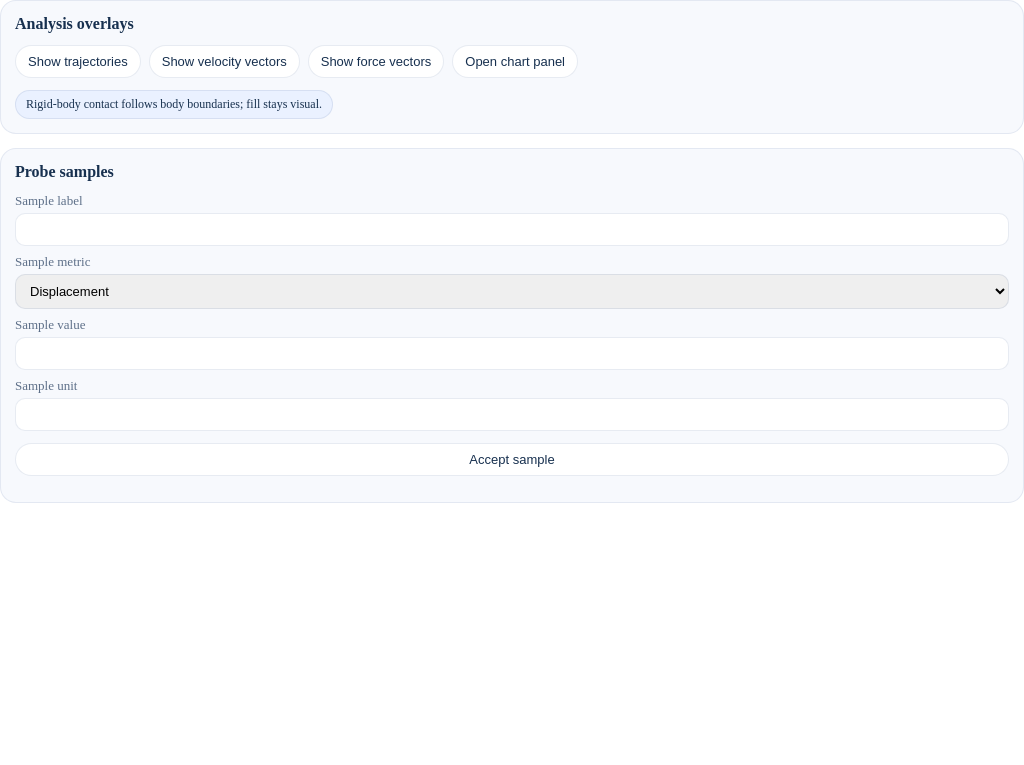
Test: AnalysisPanel › toggles trajectory, vector overlays, and chart visibility
Expected: the text "Rigid-body contact follows body boundaries; fill stays visual." is shown, top-left (15, 90), bottom-right (333, 119)
What coordinates should you click on to do the following:
click the button "Show trajectories"
I would click on:
 (78, 62)
Its box is top-left (15, 45), bottom-right (141, 78).
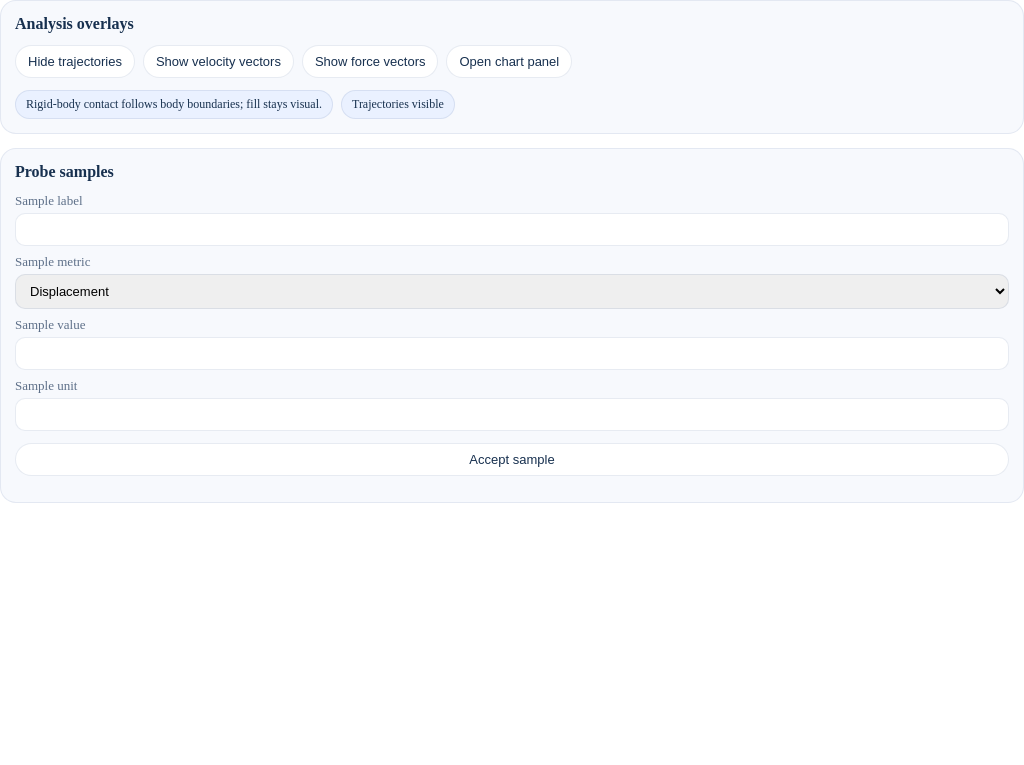
What coordinates should you click on to do the following:
click the button "Show velocity vectors"
I would click on:
 (218, 62)
Its box is top-left (143, 45), bottom-right (294, 78).
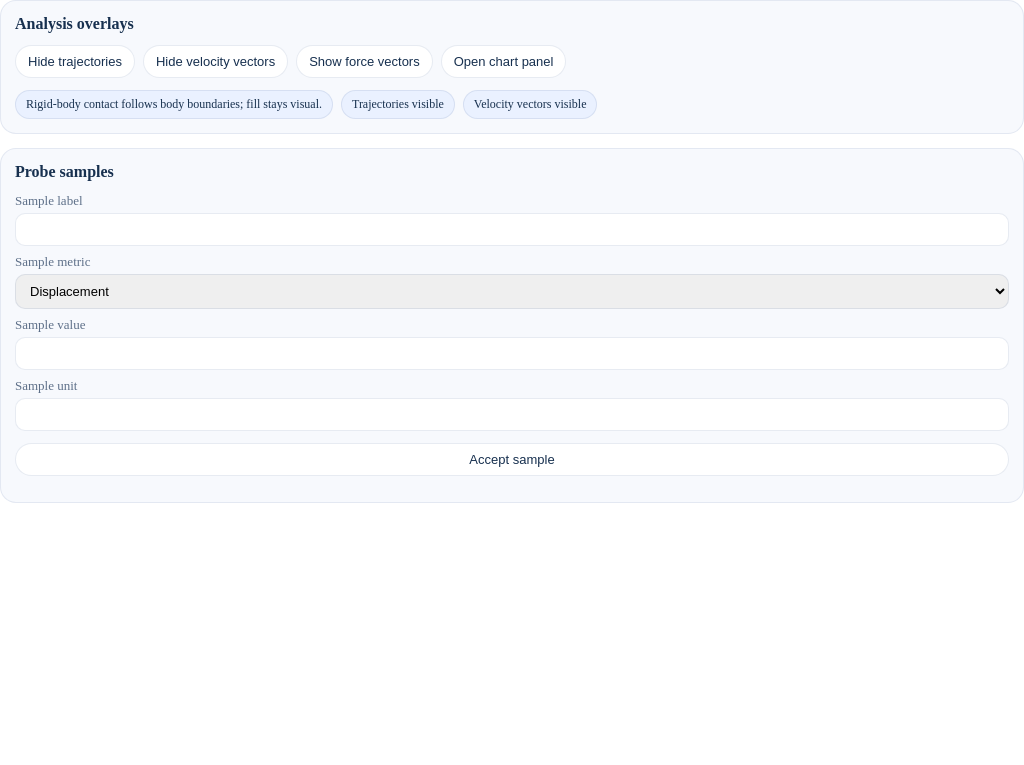
What coordinates should you click on to do the following:
click the button "Show force vectors"
I would click on:
 (364, 62)
Its box is top-left (296, 45), bottom-right (433, 78).
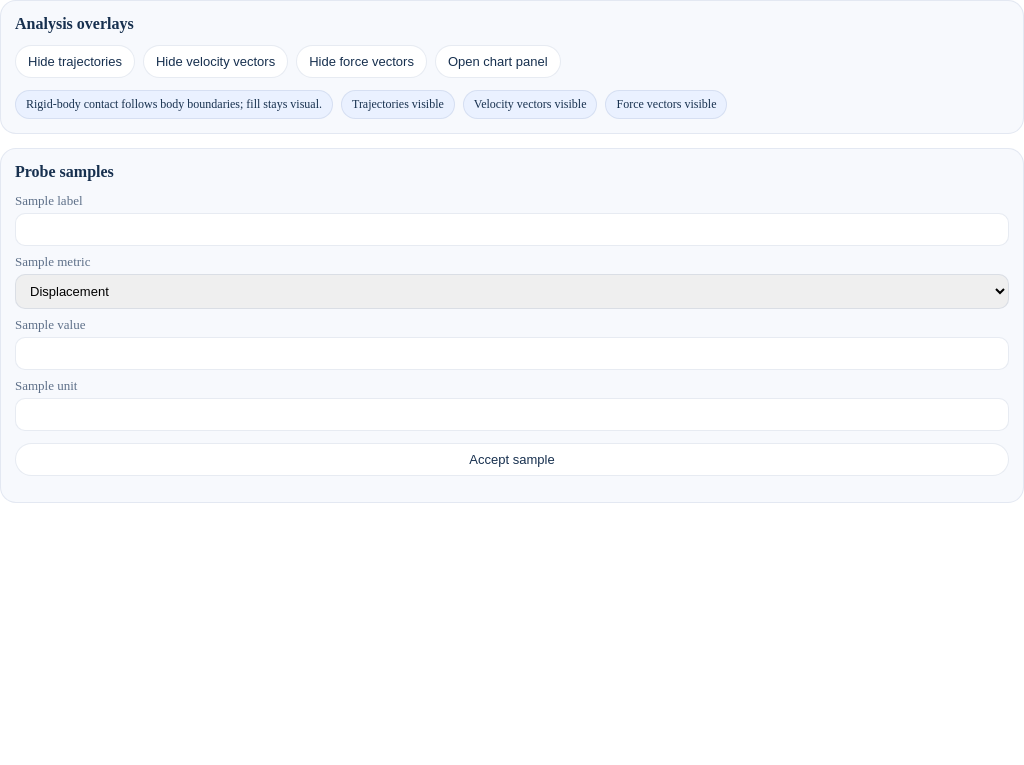
What coordinates should you click on to do the following:
click the button "Open chart panel"
I would click on:
 (498, 62)
Its box is top-left (435, 45), bottom-right (561, 78).
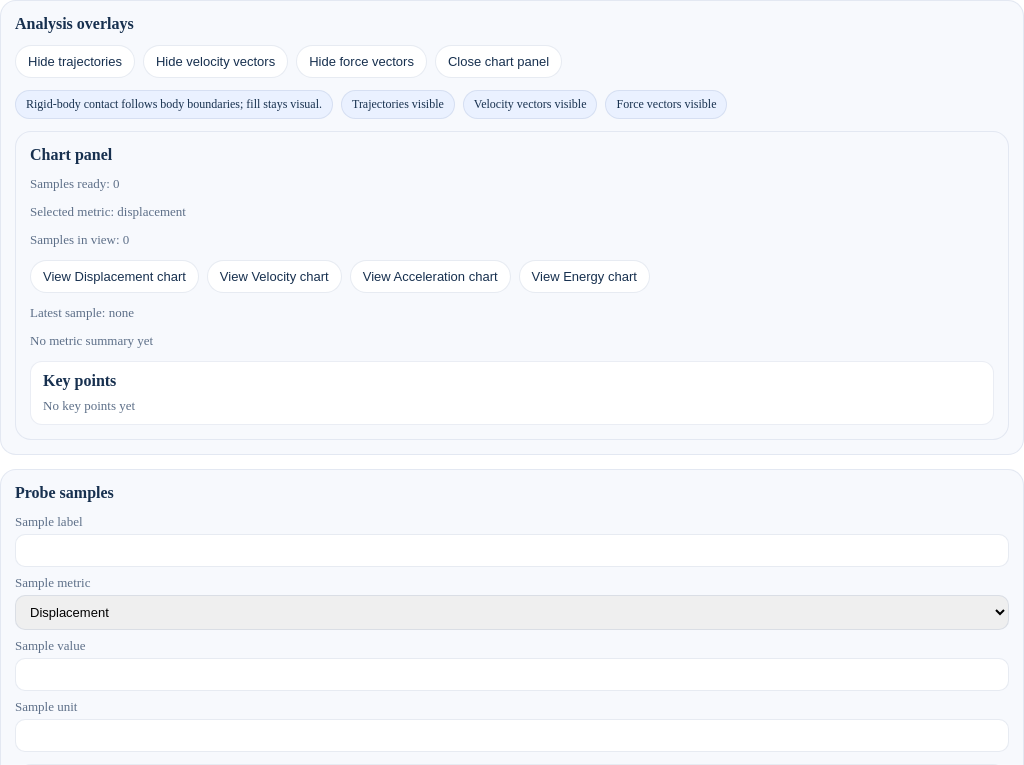
Result: the text "Trajectories visible" is shown at top-left (341, 90), bottom-right (455, 119)
Result: the text "Velocity vectors visible" is shown at top-left (463, 90), bottom-right (597, 119)
Result: the text "Force vectors visible" is shown at top-left (606, 90), bottom-right (728, 119)
What coordinates should you click on to do the following:
click the button "Close chart panel"
I would click on:
 (498, 62)
Its box is top-left (435, 45), bottom-right (562, 78).
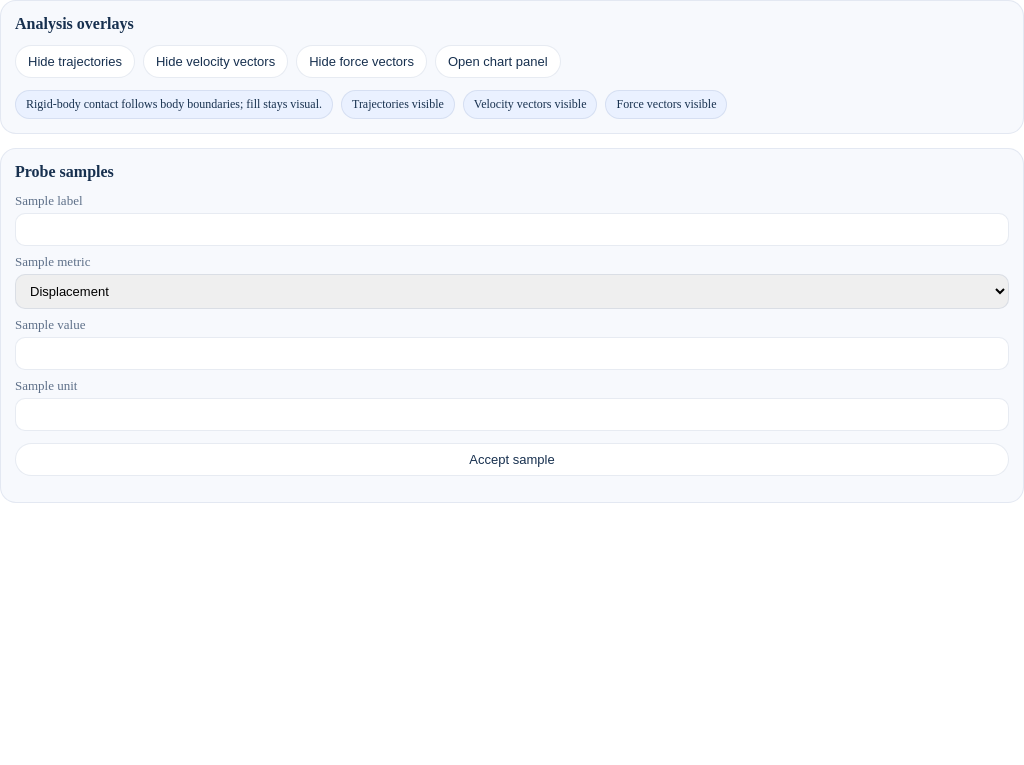
Result: the element with test id "analysis-chart-panel" is gone
